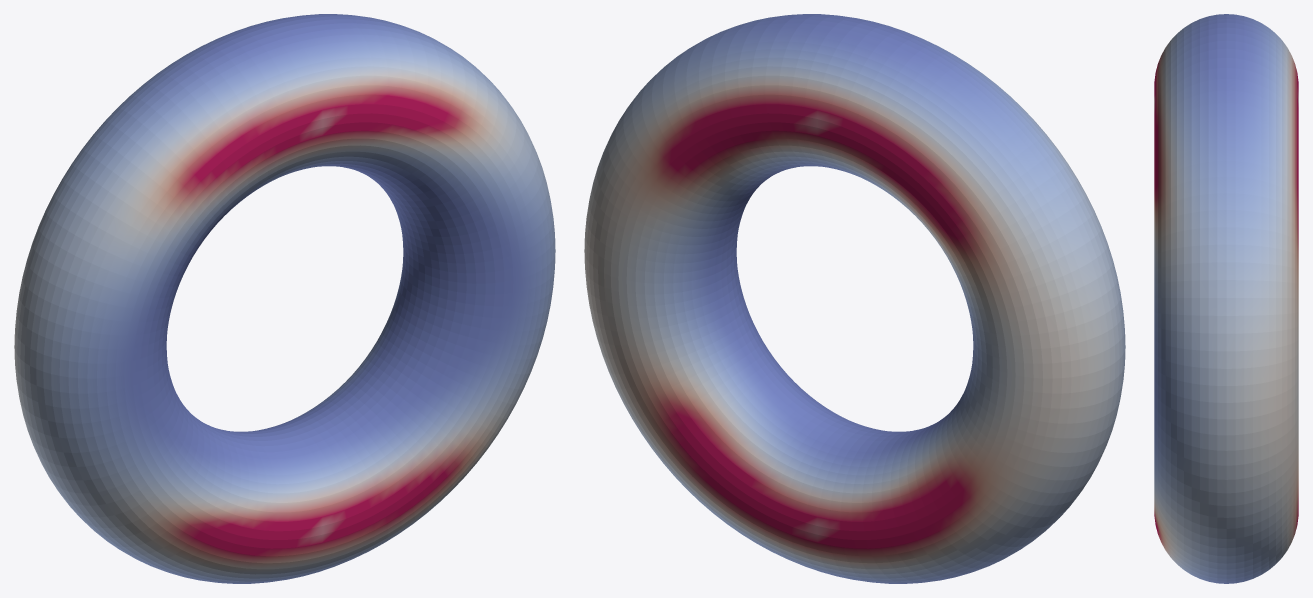
The picture shows the model from 3 angles, left to right: view 1: azimuth 30°, elevation 25°; view 2: azimuth 150°, elevation 25°; view 3: azimuth 270°, elevation 25°; orthographic projection. The views are drawn at different scales.
Visible parts, largest first — view 1: world; view 2: world; view 3: world.
Boxes of the visible parts, <box> form: world: <box>14,14,555,583</box>; world: <box>584,14,1125,583</box>; world: <box>1154,14,1298,583</box>.
Bounding box in the file's own units: 20.53 × 20.53 × 5.19.
